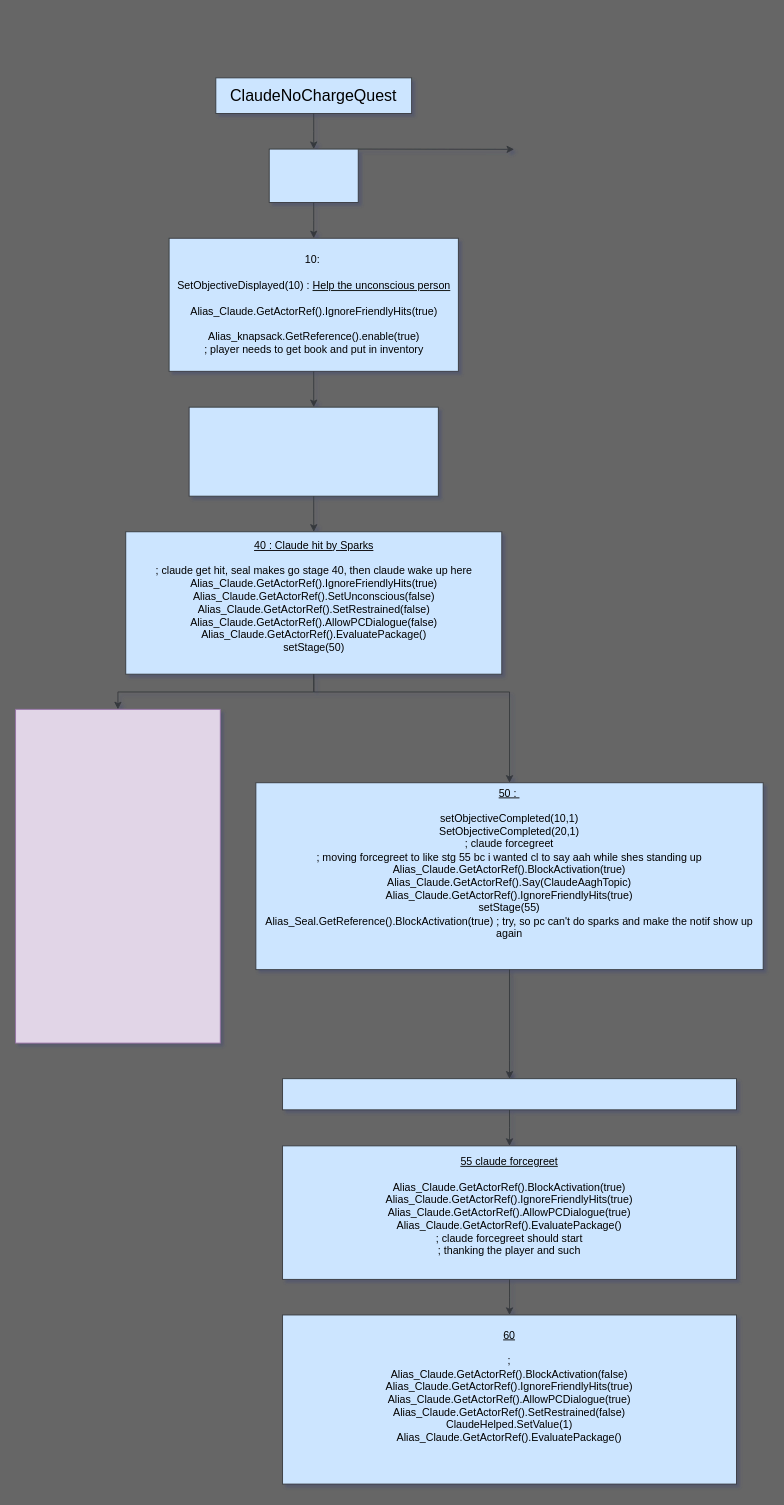
Some shapes in this 784 by 1505 pixel diagram are drawn without their labels. The centre of each missing label's shape, as x and y in pixels:
20: SetObjectiveDisplayed(20) Read the journal and try to help them: (x=313, y=451)
5: none: (x=313, y=175)
claude forcegreet pkg getstagedone 60 == 0 getstagedone 50 == 1: (x=117, y=875)
